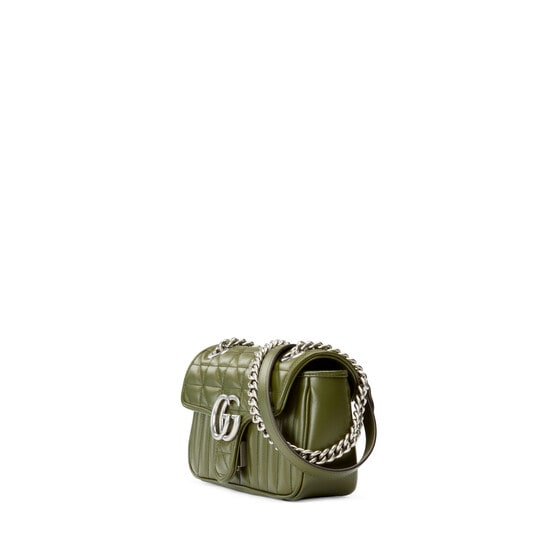Gucci: (177, 331, 376, 504), (205, 381, 253, 454)
